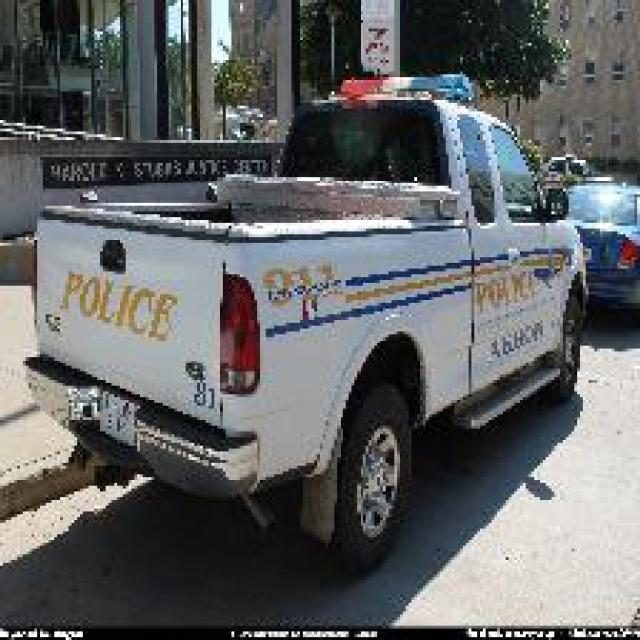Car: (560, 177, 637, 320)
Police-car: (20, 69, 589, 572)
